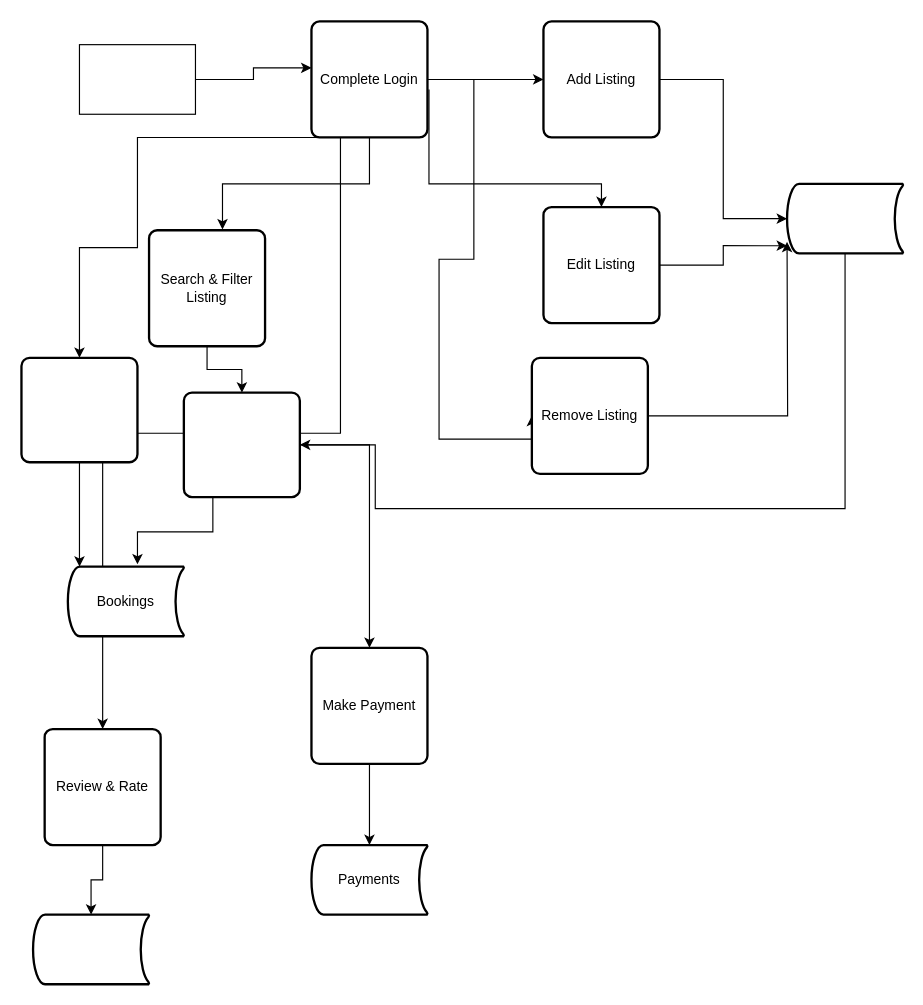
Some shapes in this 923 by 1005 pixel diagram are drawn without their labels. Here are the shapes that lost their labels. From the top down, the centre of each, then its label:
(136,79): User
(844,218): Property
(79,409): Cancel Booking
(241,444): Book Listing
(90,949): Reviews
